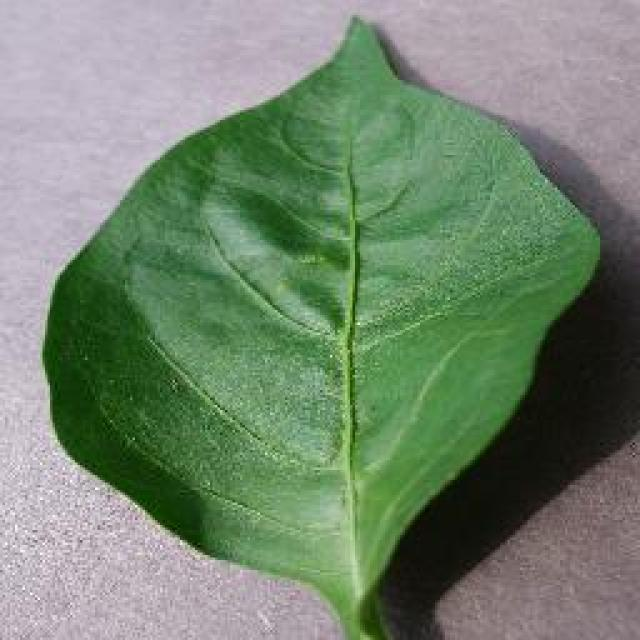Chilli_Healthy: (40, 12, 602, 638)
